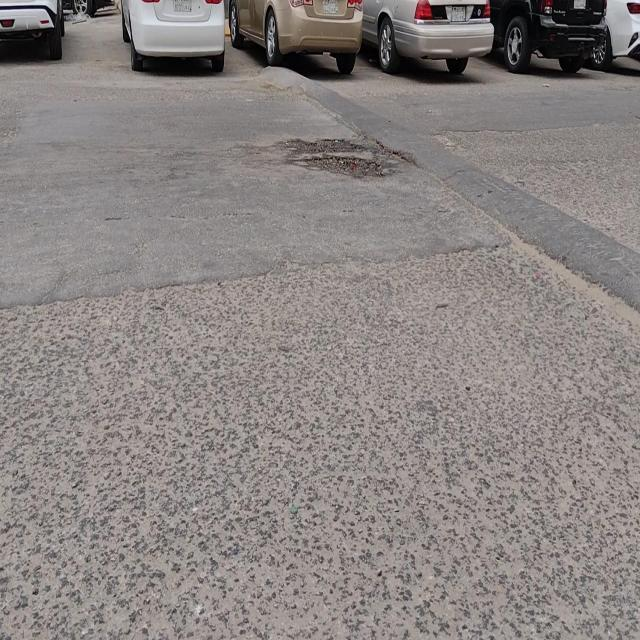Potholes: (287, 138, 386, 181)
